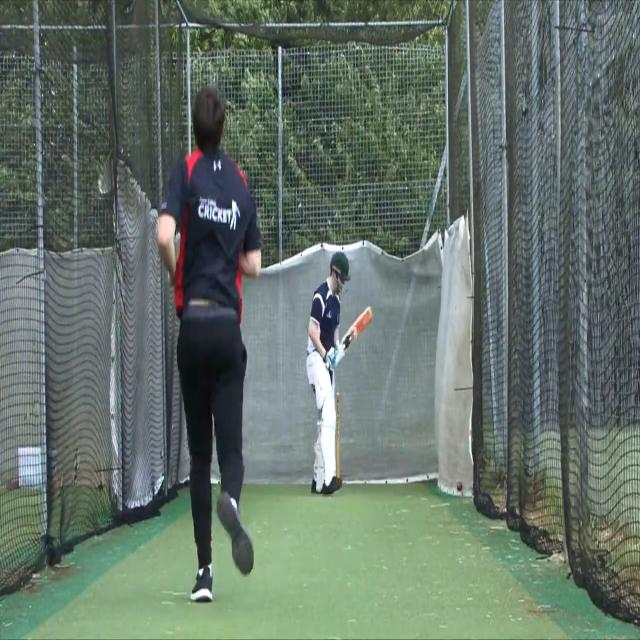batsman: (305, 248, 374, 498)
